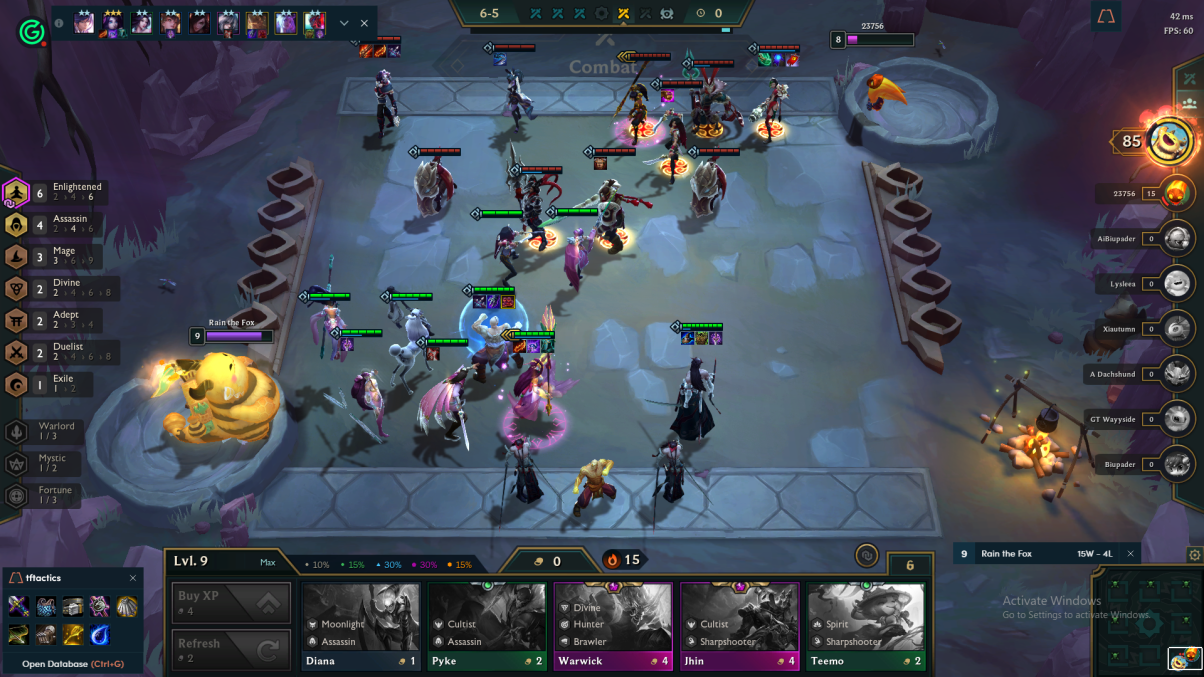2star_azir: (675, 41, 748, 159)
2star_azirsoldier: (675, 143, 749, 228), (396, 139, 470, 224)
2star_fiora: (544, 199, 606, 303)
2star_garen: (530, 144, 657, 260)
2star_irelia: (315, 325, 396, 455)
2star_janna: (292, 250, 369, 373)
2star_jarvaniv: (494, 133, 571, 259)
2star_jhin: (348, 34, 412, 149)
2star_jinx: (735, 35, 808, 153)
2star_katarina: (638, 75, 711, 193), (467, 203, 534, 301)
2star_leesin: (456, 276, 533, 399)
2star_lillia: (370, 279, 447, 402)
2star_talon: (400, 332, 481, 462)
2star_vayne: (476, 34, 545, 142)
2star_yone: (638, 314, 736, 446)
3star_nami: (487, 301, 589, 456)
3star_nami_chosen: (485, 299, 587, 454)
3star_nidalee: (606, 41, 678, 159)
item_bluebuff: (770, 51, 790, 68)
item_bramble: (590, 154, 610, 171)
item_guinsoo: (490, 50, 510, 67), (511, 337, 529, 355), (371, 41, 389, 59)
item_jeweledgauntlet: (658, 87, 678, 104)
item_lastwhisper: (470, 292, 488, 310), (386, 40, 404, 58)
item_luden: (526, 337, 544, 355)
item_mage: (680, 329, 697, 346)
item_quicksilver: (539, 336, 557, 354)
item_rfc: (357, 41, 375, 59)
item_shojin: (756, 50, 776, 67)
item_thief: (498, 293, 516, 311)
item_trapclaw: (485, 292, 503, 310)
item_warlord: (784, 52, 804, 69)
item_warmogs: (693, 329, 710, 346)
item_youmuu: (705, 326, 724, 344), (338, 335, 356, 353)
item_zeke: (423, 344, 441, 362)
trait_adept2: (1, 305, 127, 336)
trait_assassin4: (1, 210, 127, 241)
trait_divine2: (1, 273, 127, 304)
trait_duelist2: (1, 337, 127, 368)
trait_enlightened6: (1, 175, 127, 211)
trait_enlightened_chosen: (1, 174, 33, 211)
trait_exile1: (1, 370, 123, 401)
trait_fortune1: (1, 479, 124, 510)
trait_mage3: (1, 241, 127, 272)
trait_mystic1: (1, 447, 124, 478)
trait_warlord1: (1, 417, 124, 448)
